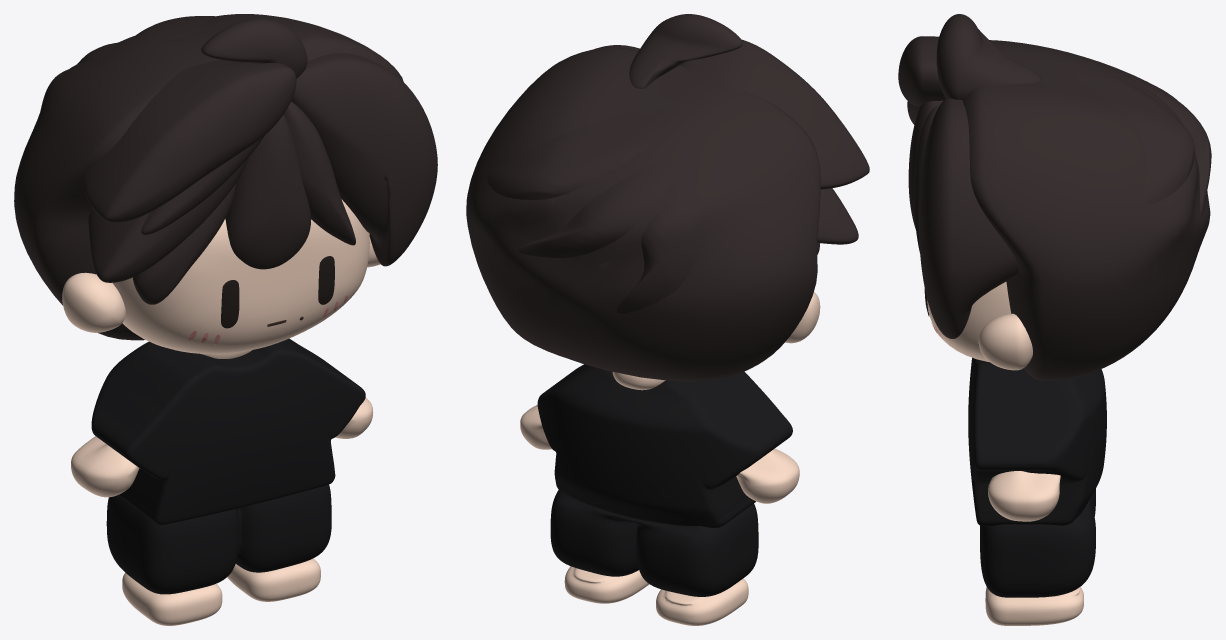
File: basis-character.glb
3 renders of one model, left to right at view 1: azimuth 30°, elevation 25°; view 2: azimuth 150°, elevation 25°; view 3: azimuth 270°, elevation 25°, orthographic. The views are drawn at different scales.
Visible parts, largest first — view 1: PlainBlackTshirt, Hair_Base, Hair_TopSweep, Hair_RightMass, RoundFullFace, LooseBlackPants, Hair_CenterFringe, Hair_LeftMiddle, Hair_RightFringe, Hair_CrownCurl, Hair_LeftLower, BareFoot_L (+8 smaller); view 2: Hair_Base, PlainBlackTshirt, LooseBlackPants, Hair_TopSweep, Hair_BackUpperSweep, Hair_BackMiddleSweep, Hair_BackSideSweep, Hair_CrownCurl, BareFoot_L, SmallArm_L, BareFoot_R, Hair_LeftMiddle (+3 smaller); view 3: Hair_Base, PlainBlackTshirt, Hair_RightMass, LooseBlackPants, Hair_BackUpperSweep, Hair_CrownCurl, SmallArm_R, BareFoot_R, Hair_TopSweep, Ear_R, RoundFullFace, Hair_BackMiddleSweep (+2 smaller).
Boxes of the visible parts, box(x1,y1,x2,y2) form: PlainBlackTshirt: box(91, 338, 365, 524); Hair_Base: box(14, 14, 403, 340); Hair_TopSweep: box(82, 60, 296, 222); Hair_RightMass: box(291, 53, 437, 266); RoundFullFace: box(112, 199, 369, 354); LooseBlackPants: box(106, 484, 331, 594); Hair_CenterFringe: box(225, 114, 310, 269); Hair_LeftMiddle: box(88, 157, 248, 282); Hair_RightFringe: box(284, 101, 355, 245); Hair_CrownCurl: box(201, 18, 307, 78); Hair_LeftLower: box(132, 183, 235, 304); BareFoot_L: box(122, 573, 222, 625); Hair_Base: box(466, 47, 820, 381); PlainBlackTshirt: box(537, 364, 792, 527); LooseBlackPants: box(550, 490, 758, 596); Hair_TopSweep: box(680, 39, 869, 189); Hair_BackUpperSweep: box(487, 112, 663, 199); Hair_BackMiddleSweep: box(518, 161, 680, 257); Hair_BackSideSweep: box(617, 200, 703, 313); Hair_CrownCurl: box(629, 14, 742, 88); BareFoot_L: box(656, 578, 748, 625); SmallArm_L: box(736, 448, 799, 503); BareFoot_R: box(564, 566, 649, 603); Hair_LeftMiddle: box(817, 188, 858, 244); Hair_Base: box(962, 40, 1210, 380); PlainBlackTshirt: box(968, 357, 1106, 526); Hair_RightMass: box(919, 98, 1018, 338); LooseBlackPants: box(980, 489, 1095, 597); Hair_BackUpperSweep: box(1073, 67, 1194, 204); Hair_CrownCurl: box(936, 14, 1041, 99); SmallArm_R: box(988, 471, 1060, 521); BareFoot_R: box(985, 587, 1083, 625); Hair_TopSweep: box(898, 36, 945, 106); Ear_R: box(978, 313, 1032, 370); RoundFullFace: box(927, 282, 1011, 362); Hair_BackMiddleSweep: box(1116, 69, 1211, 214).
Bounding box in the file's own units: 1.54 × 2.5 × 1.25.
